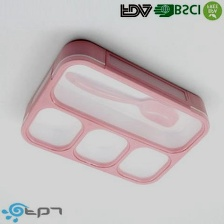plastic_box: (13, 33, 215, 191)
